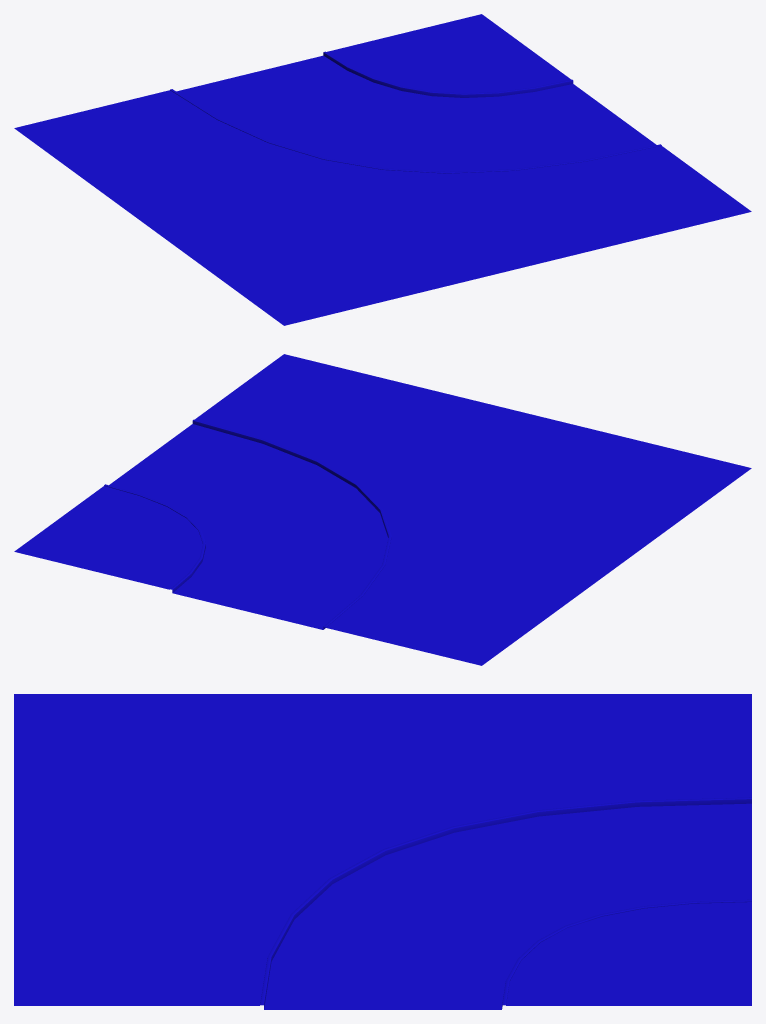
The picture shows the model from 3 angles, top to bottom: view 1: azimuth 30°, elevation 25°; view 2: azimuth 150°, elevation 25°; view 3: azimuth 270°, elevation 25°; orthographic projection. The views are drawn at different scales.
Parts seen in each view (by area): view 1: R_03; view 2: R_03; view 3: R_03.
Part boxes in pixels (<box>): R_03: <box>14,14,751,325</box>; R_03: <box>14,354,751,665</box>; R_03: <box>14,694,751,1009</box>.
Bounding box in the file's own units: 3000 × 21.13 × 3000.
